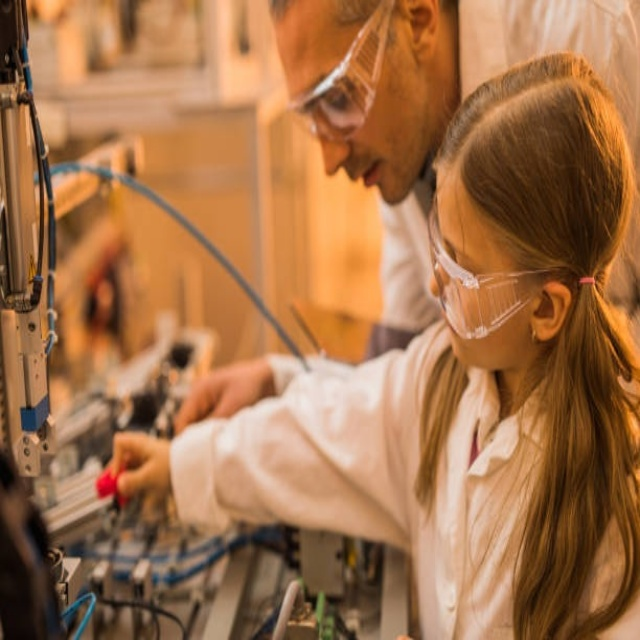Gafas: (428, 195, 578, 339), (284, 0, 396, 142)
Sin_guantes: (174, 354, 283, 431), (105, 427, 175, 506)
Sin_mascara: (344, 141, 406, 201)
